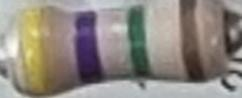Blue: (70, 9, 108, 86)
Green: (128, 2, 152, 78)
Side-Gold: (178, 0, 210, 81)
Yellow: (21, 6, 54, 93)
